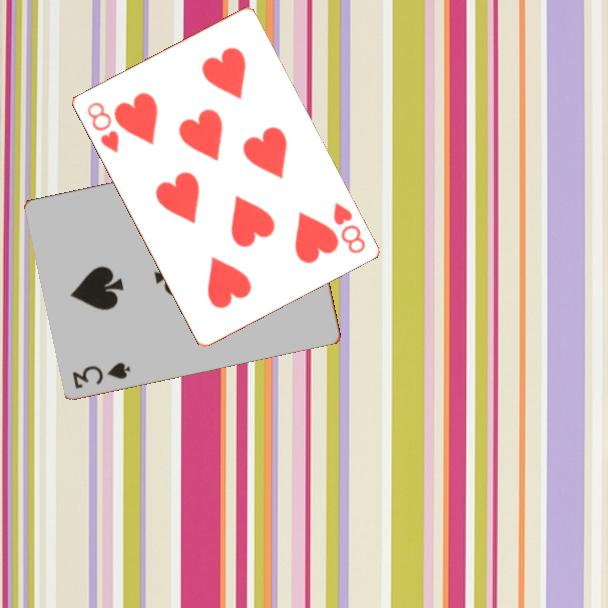h08: (83, 98, 122, 156), (329, 198, 368, 256)
s03: (69, 358, 134, 391)
